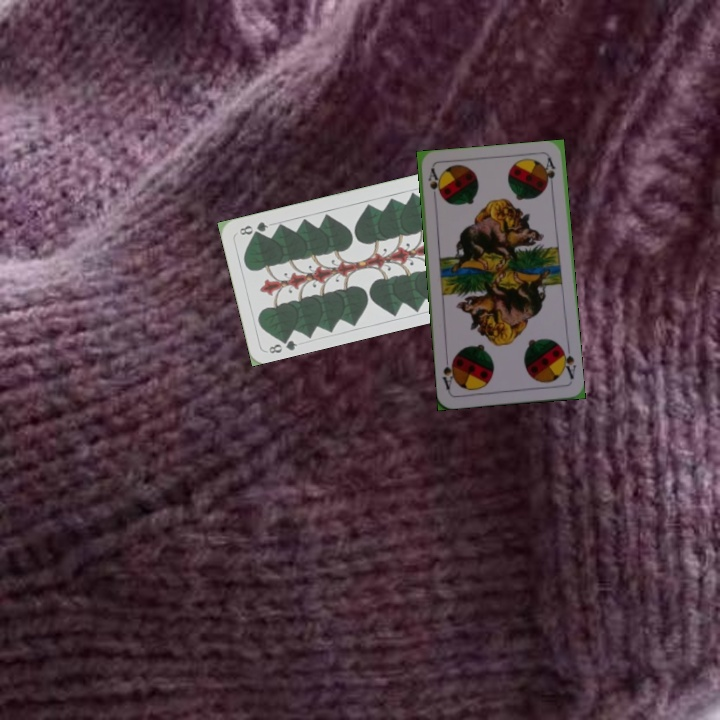G8: (265, 332, 300, 356)
SA: (557, 343, 578, 381), (424, 165, 443, 198)
